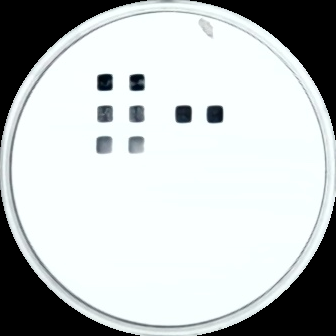检查点: (205, 104, 227, 126), (95, 71, 115, 93), (95, 104, 116, 124), (174, 105, 194, 125), (127, 73, 146, 93), (95, 135, 113, 155), (127, 135, 145, 155), (128, 105, 146, 124)
